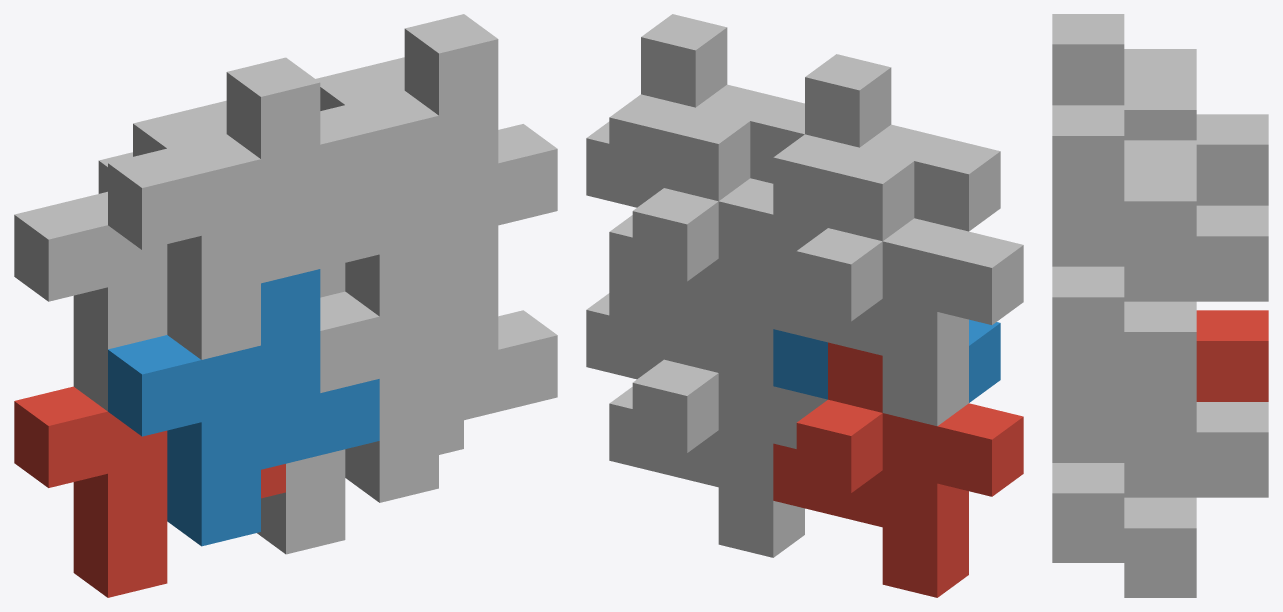
Rendered from tiling.obj.
3 renders of one model, left to right at view 1: azimuth 30°, elevation 25°; view 2: azimuth 150°, elevation 25°; view 3: azimuth 270°, elevation 25°, orthographic. The views are drawn at different scales.
Parts seen in each view (by area): view 1: copy_1_domain_4, copy_1_domain_8, copy_1_domain_2, copy_1_domain_6, copy_1_domain_1, copy_1_domain_3, copy_1_domain_5, copy_1_domain_7; view 2: copy_1_domain_3, copy_1_domain_1, copy_1_domain_7, copy_1_domain_5, copy_1_domain_4, copy_1_domain_8, copy_1_domain_6, copy_1_domain_2; view 3: copy_1_domain_8, copy_1_domain_6, copy_1_domain_7, copy_1_domain_5, copy_1_domain_4, copy_1_domain_3, copy_1_domain_1.
Boxes of the visible parts, x1,y1,x2,y2 form: copy_1_domain_4: (108, 57, 379, 359); copy_1_domain_8: (320, 14, 557, 316); copy_1_domain_2: (108, 269, 379, 546); copy_1_domain_6: (320, 225, 557, 502); copy_1_domain_1: (14, 386, 285, 597); copy_1_domain_3: (14, 109, 225, 411); copy_1_domain_5: (257, 420, 463, 554); copy_1_domain_7: (316, 65, 404, 297); copy_1_domain_3: (773, 147, 1023, 426); copy_1_domain_1: (773, 342, 1023, 597); copy_1_domain_7: (609, 107, 827, 385); copy_1_domain_5: (609, 302, 827, 557); copy_1_domain_4: (773, 54, 1000, 231); copy_1_domain_8: (586, 14, 804, 207); copy_1_domain_6: (586, 289, 663, 379); copy_1_domain_2: (773, 319, 1000, 402); copy_1_domain_8: (1052, 105, 1196, 362); copy_1_domain_6: (1052, 362, 1196, 562); copy_1_domain_7: (1124, 140, 1268, 397); copy_1_domain_5: (1124, 402, 1268, 597); copy_1_domain_4: (1052, 14, 1196, 140); copy_1_domain_3: (1124, 49, 1268, 205); copy_1_domain_1: (1196, 310, 1268, 401).
Size of the model in its own units: 8 by 8 by 3.
